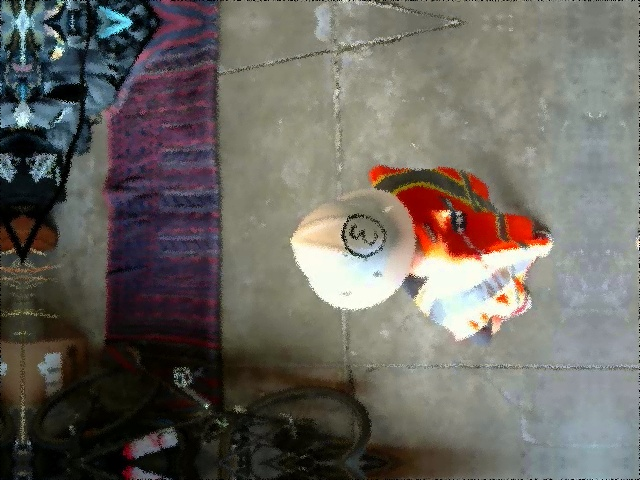three: (341, 213, 384, 256)
